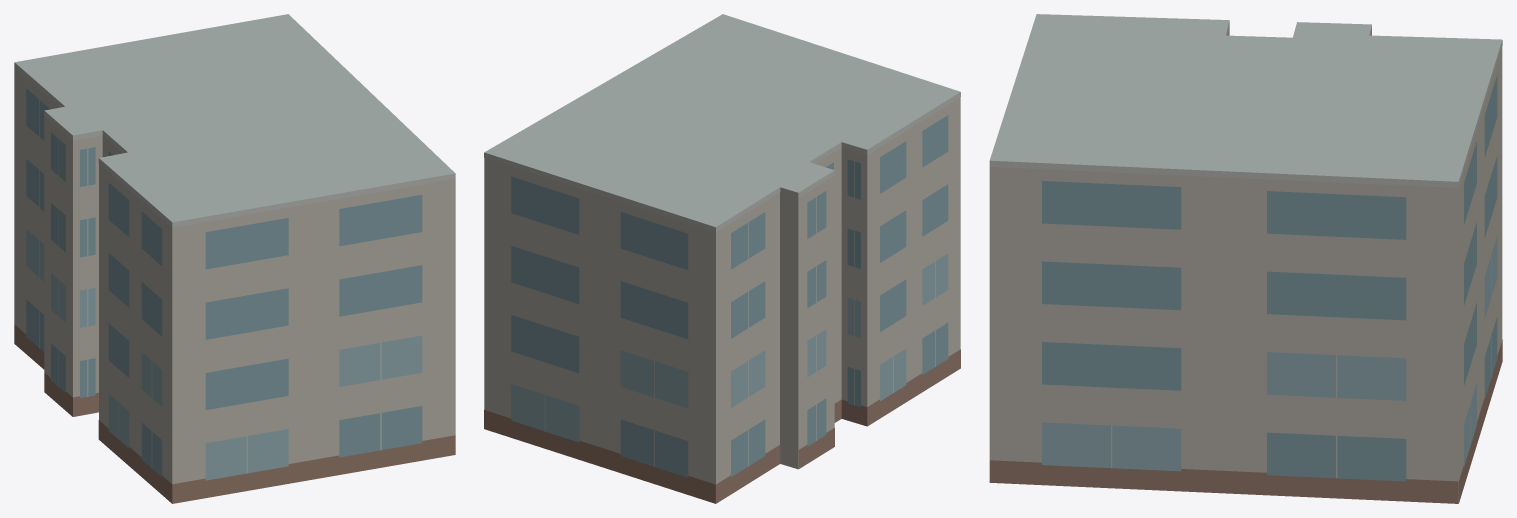
Rendered from survey-upis-32949114.glb.
3 views of the same model, side by side, from view 1: azimuth 30°, elevation 25°; view 2: azimuth 150°, elevation 25°; view 3: azimuth 270°, elevation 25° (orthographic). The views are drawn at different scales.
Parts seen in each view (by area): view 1: survey-upis-32949114.tmp; view 2: survey-upis-32949114.tmp; view 3: survey-upis-32949114.tmp.
Part boxes in pixels (x1=…): survey-upis-32949114.tmp: x1=14, y1=14, x2=455, y2=503; survey-upis-32949114.tmp: x1=484, y1=14, x2=960, y2=503; survey-upis-32949114.tmp: x1=989, y1=14, x2=1502, y2=503.
Bounding box in the file's own units: 14.42 × 12.9 × 18.63.
